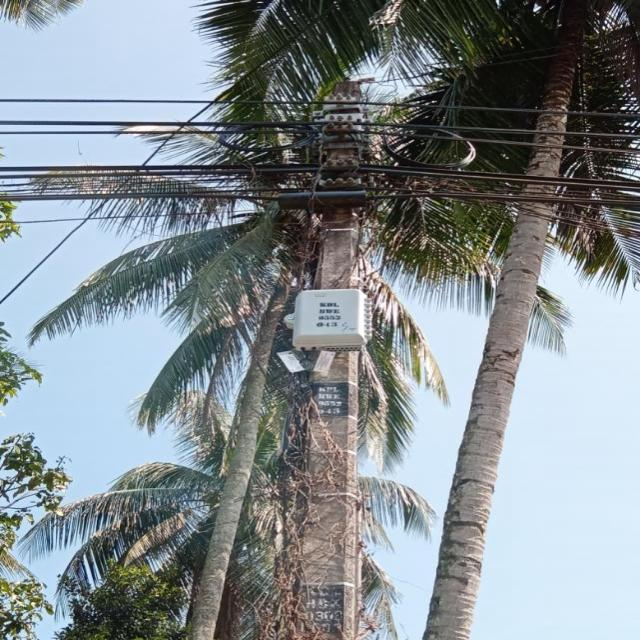light_pole: (282, 75, 374, 640)
